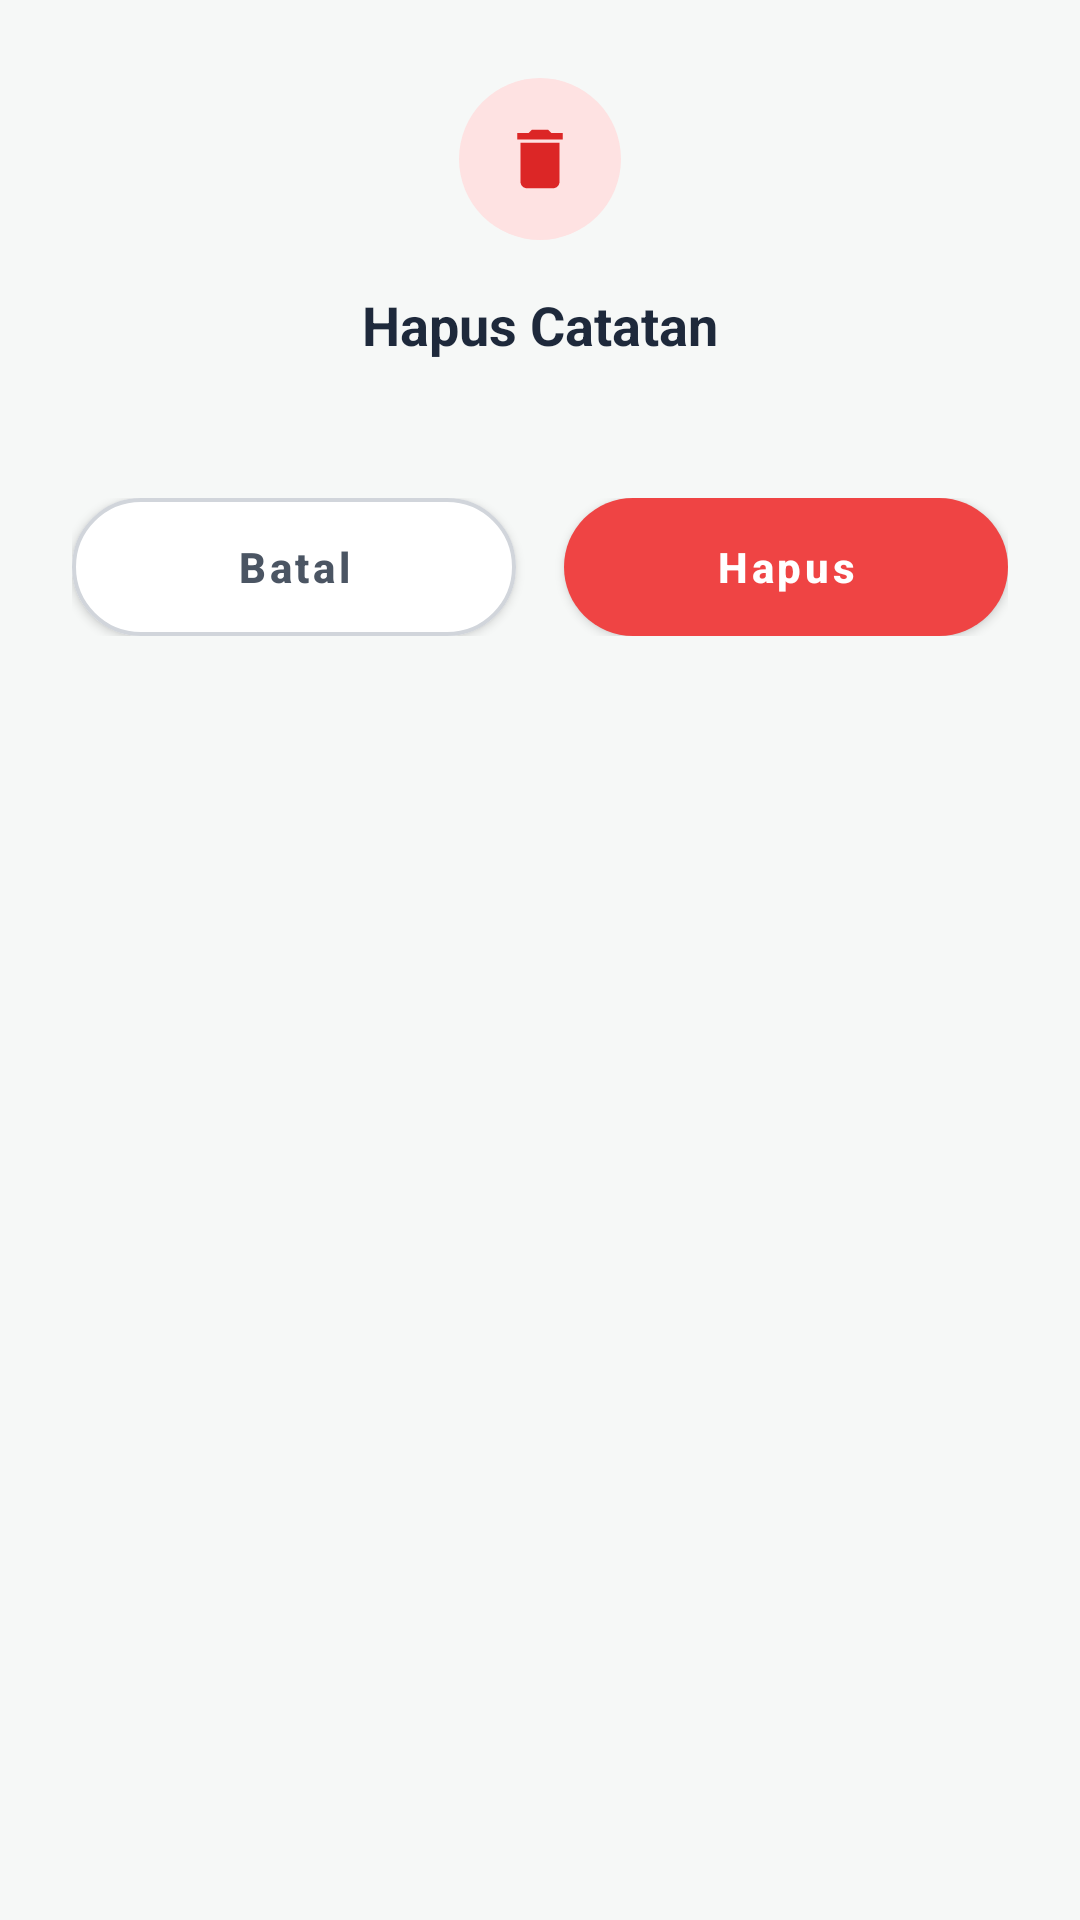

Named icons in this screenshot (1080×1920) and their centers, point (x, y):
delete: point (540, 159)
